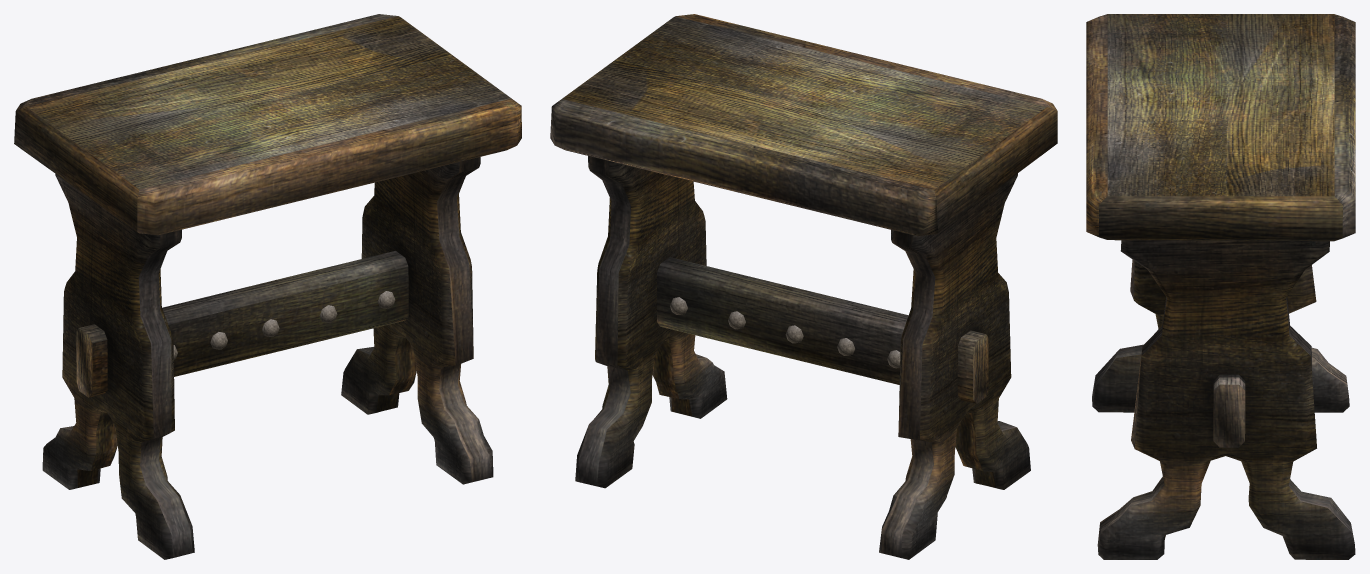
The model's file is Stool.obj.
3 renders of one model, left to right at view 1: azimuth 30°, elevation 25°; view 2: azimuth 150°, elevation 25°; view 3: azimuth 270°, elevation 25°, orthographic.
Parts seen in each view (by area): view 1: Stool; view 2: Stool; view 3: Stool.
Part boxes in pixels (bbox=[...]): Stool: bbox=[14, 14, 521, 559]; Stool: bbox=[550, 14, 1057, 559]; Stool: bbox=[1086, 14, 1355, 559].
Bounding box in the file's own units: 59.09 × 54.18 × 35.37.
